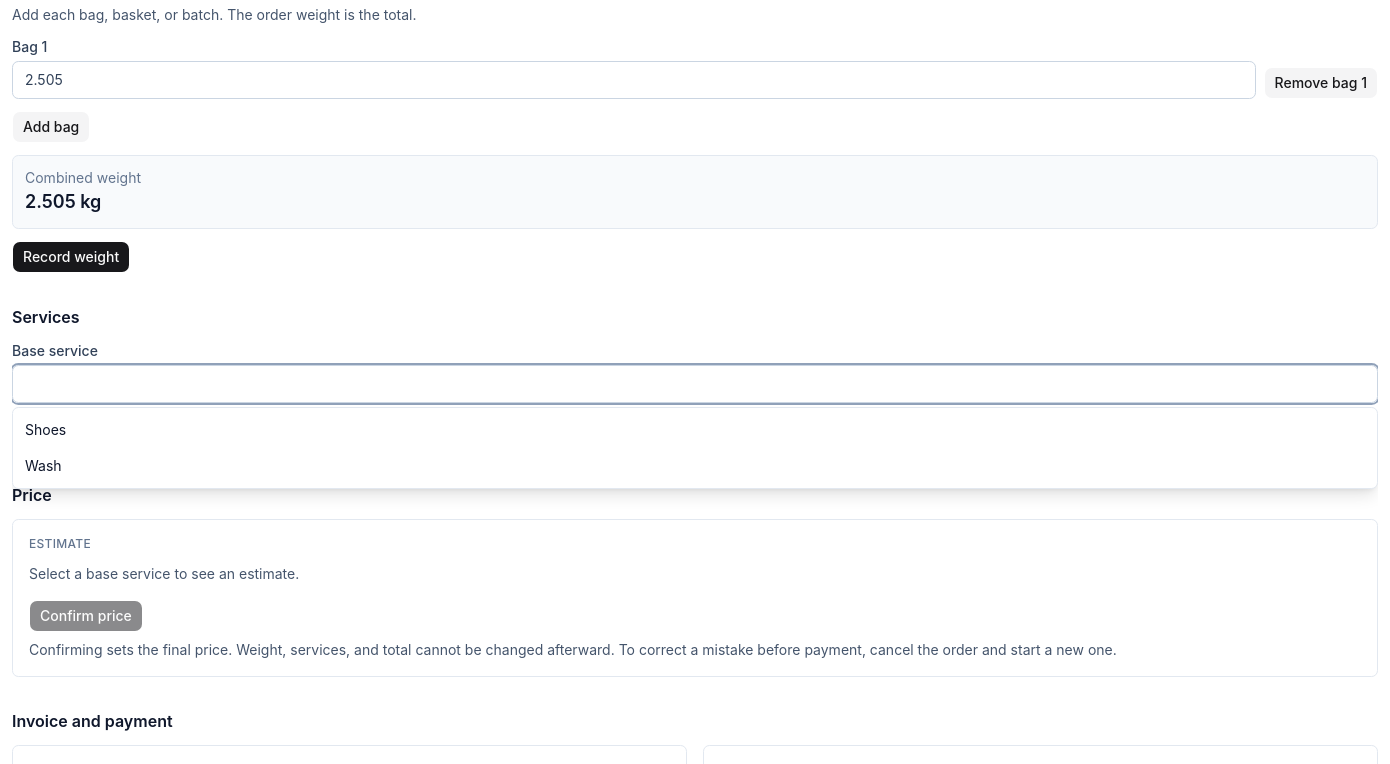
Test: order page price review (#162) › case 8: a failure with no server message says "Unable to price order."
(page scrolled)
Click the option "Wash" at (43, 466), box [25, 457, 62, 474]
Wait 900 ms
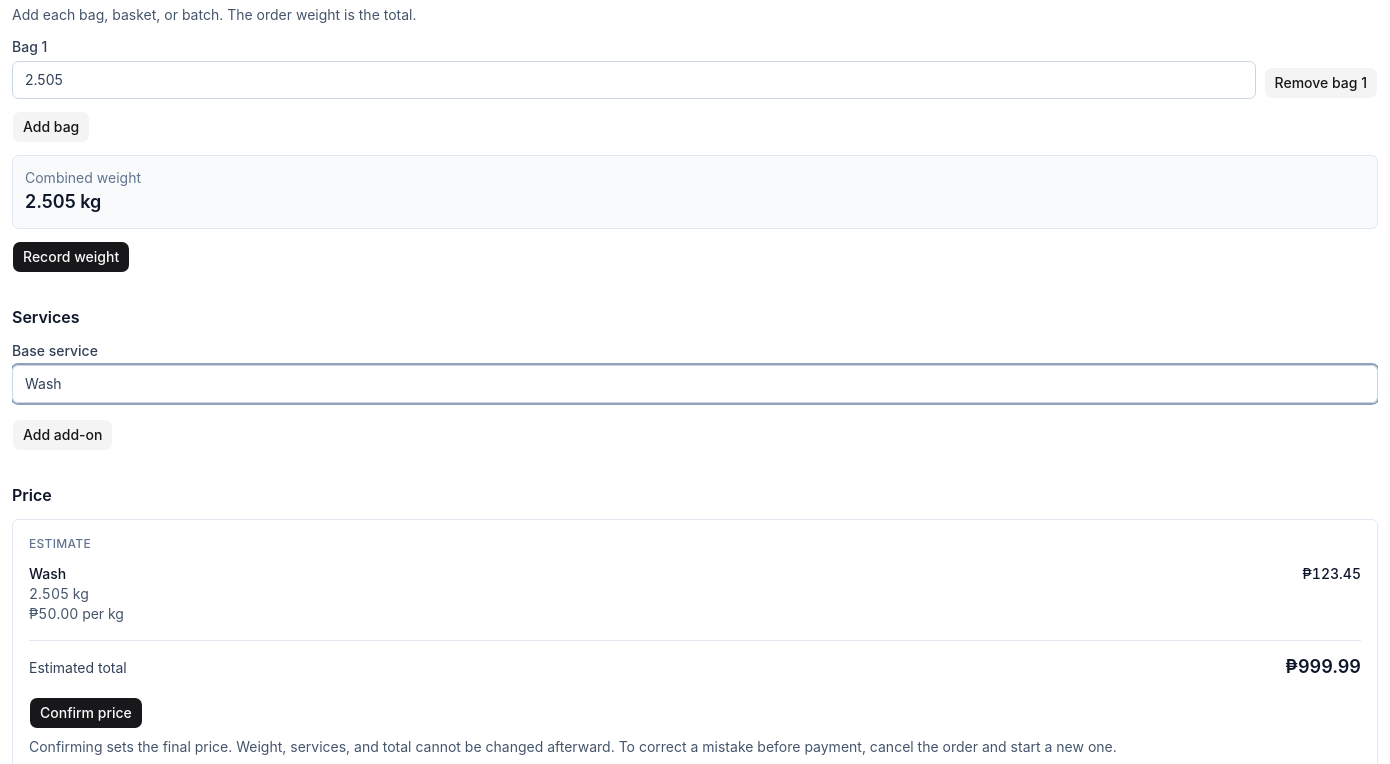
Expected: the button "Confirm price" is enabled
Click the button "Confirm price" at (86, 713), box [29, 697, 143, 729]
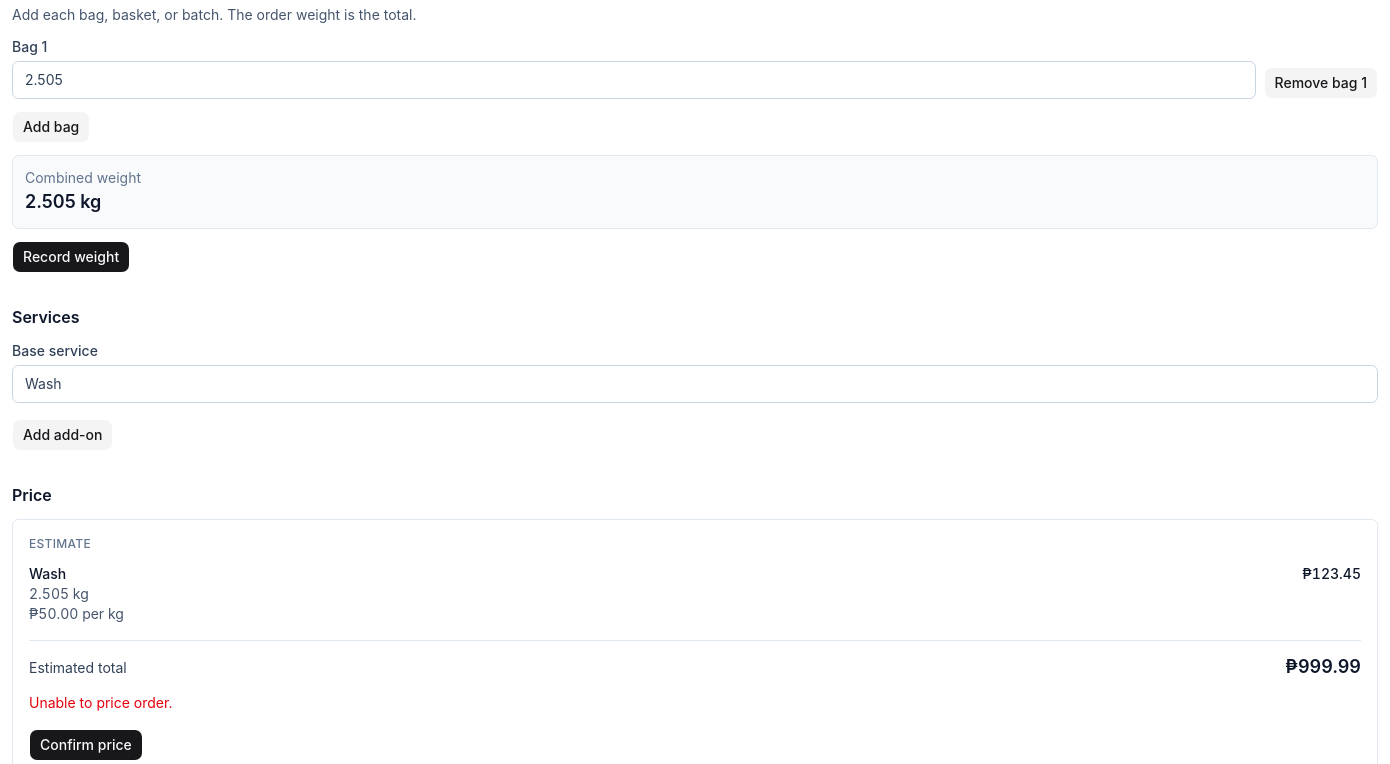
Expected: the message "Unable to price order." is shown, [29, 694, 172, 711]
